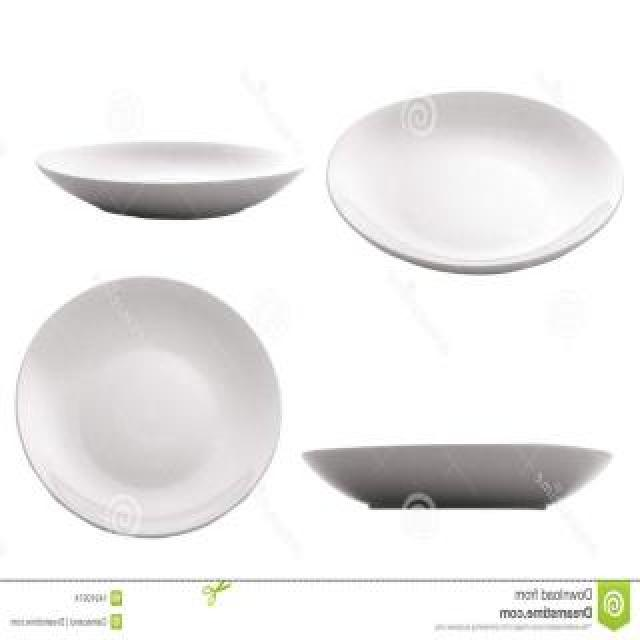plate: (0, 256, 296, 548), (315, 44, 633, 288), (291, 386, 625, 542), (31, 84, 311, 252)
